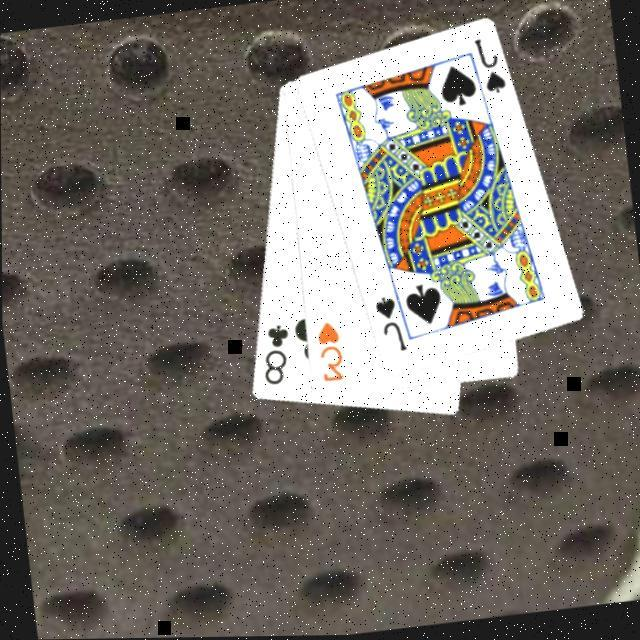3H: (312, 316, 347, 384)
8C: (254, 318, 296, 388)
JS: (370, 290, 409, 356), (471, 32, 509, 98)
